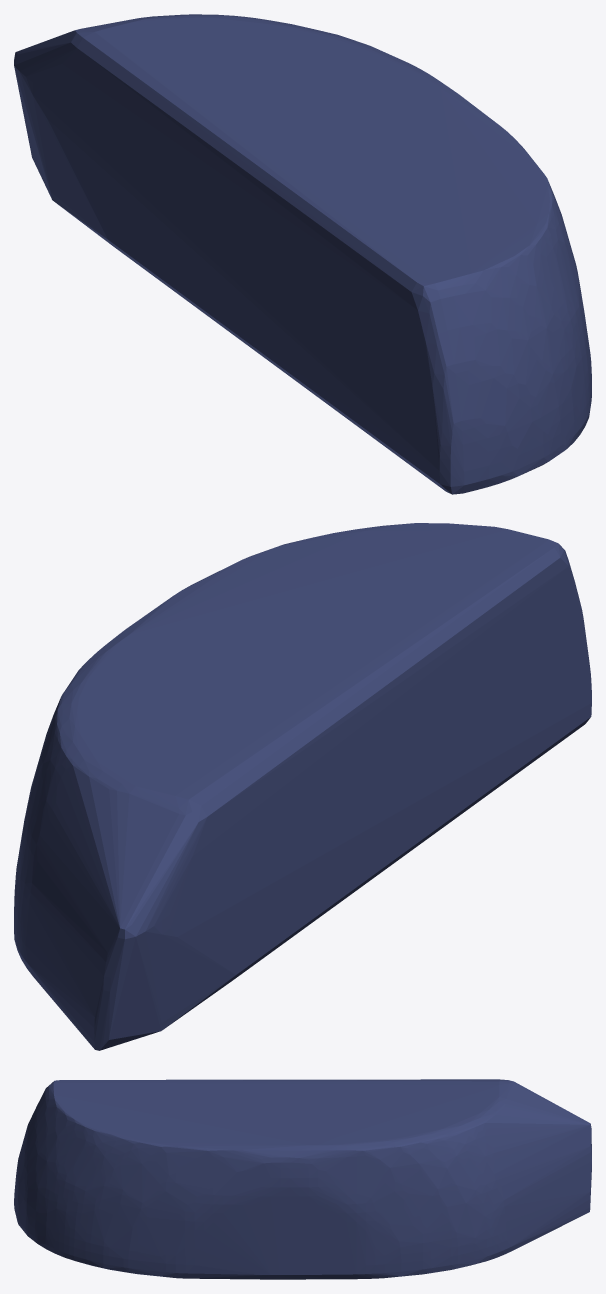
File: right-hip-roll-0_part_16.obj
The picture shows the model from 3 angles, top to bottom: view 1: azimuth 30°, elevation 25°; view 2: azimuth 150°, elevation 25°; view 3: azimuth 270°, elevation 25°; orthographic projection. The views are drawn at different scales.
Size of the model in its own units: 0.0266 by 0.02 by 0.0815.
